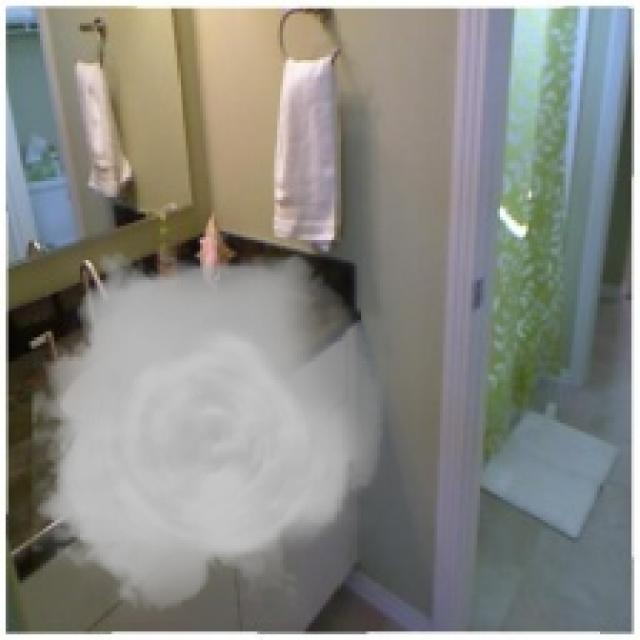smoke: (31, 234, 386, 623)
